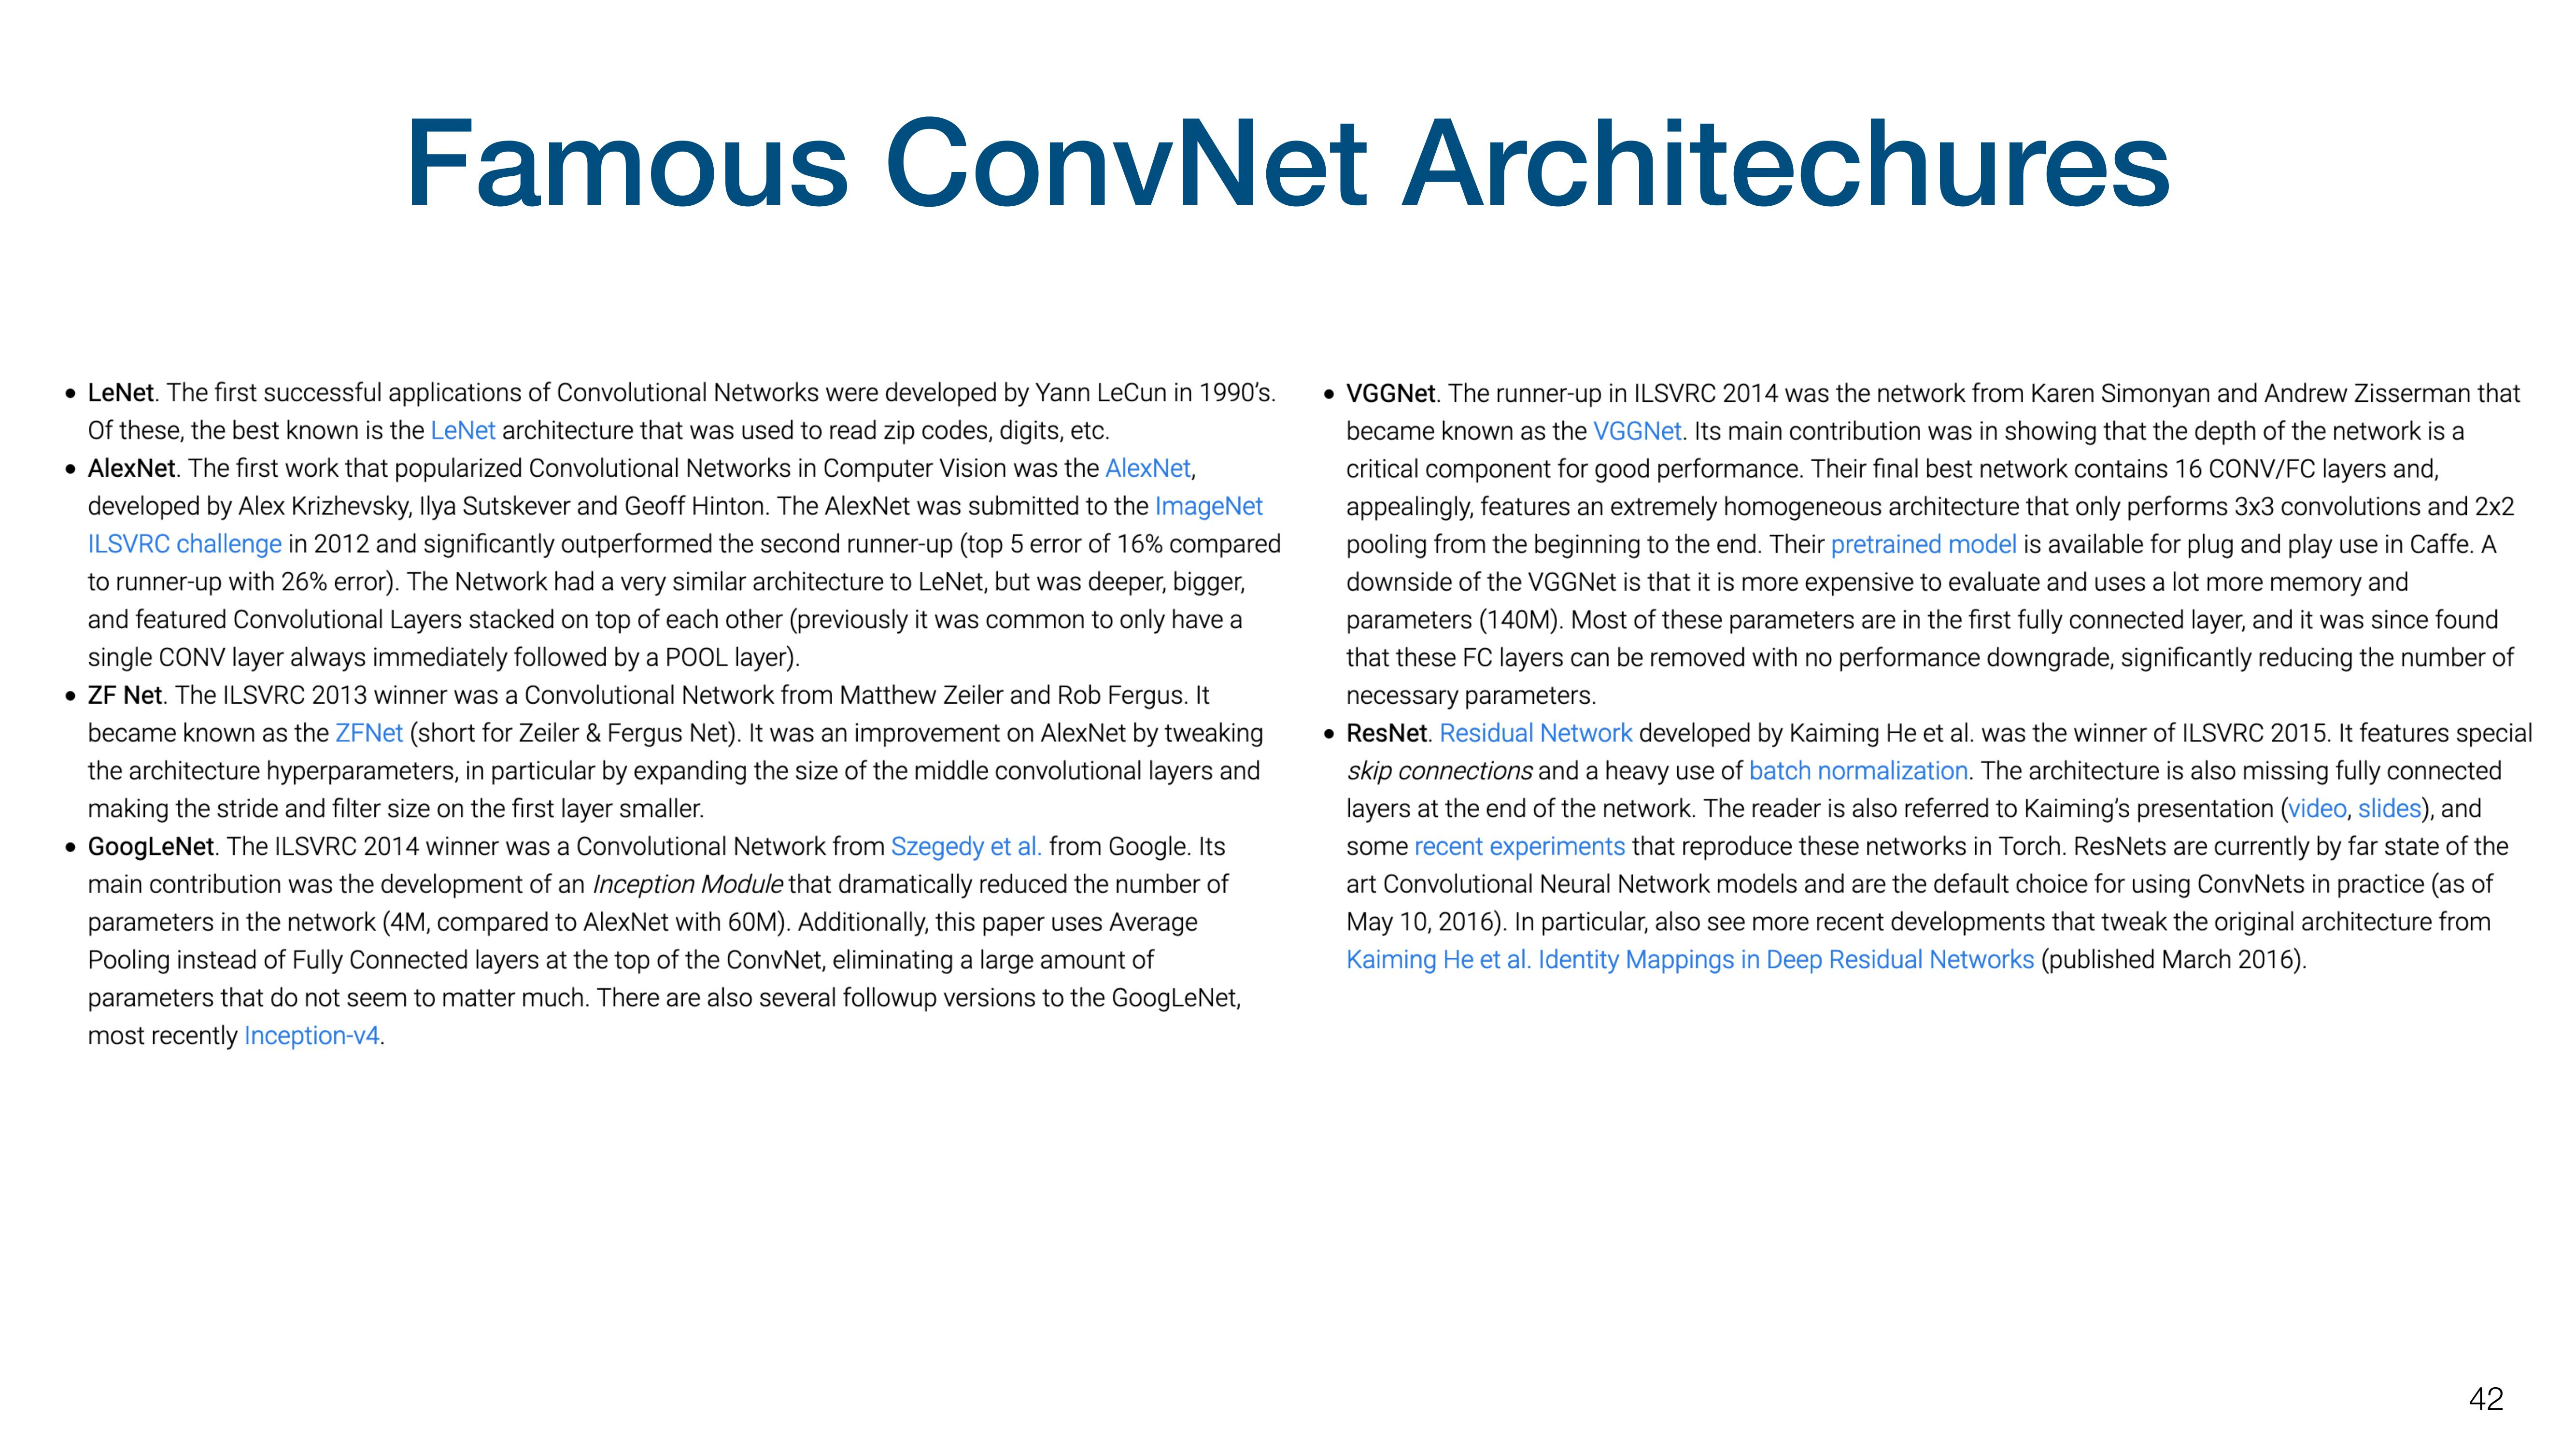Title: (333, 92, 2196, 234)
